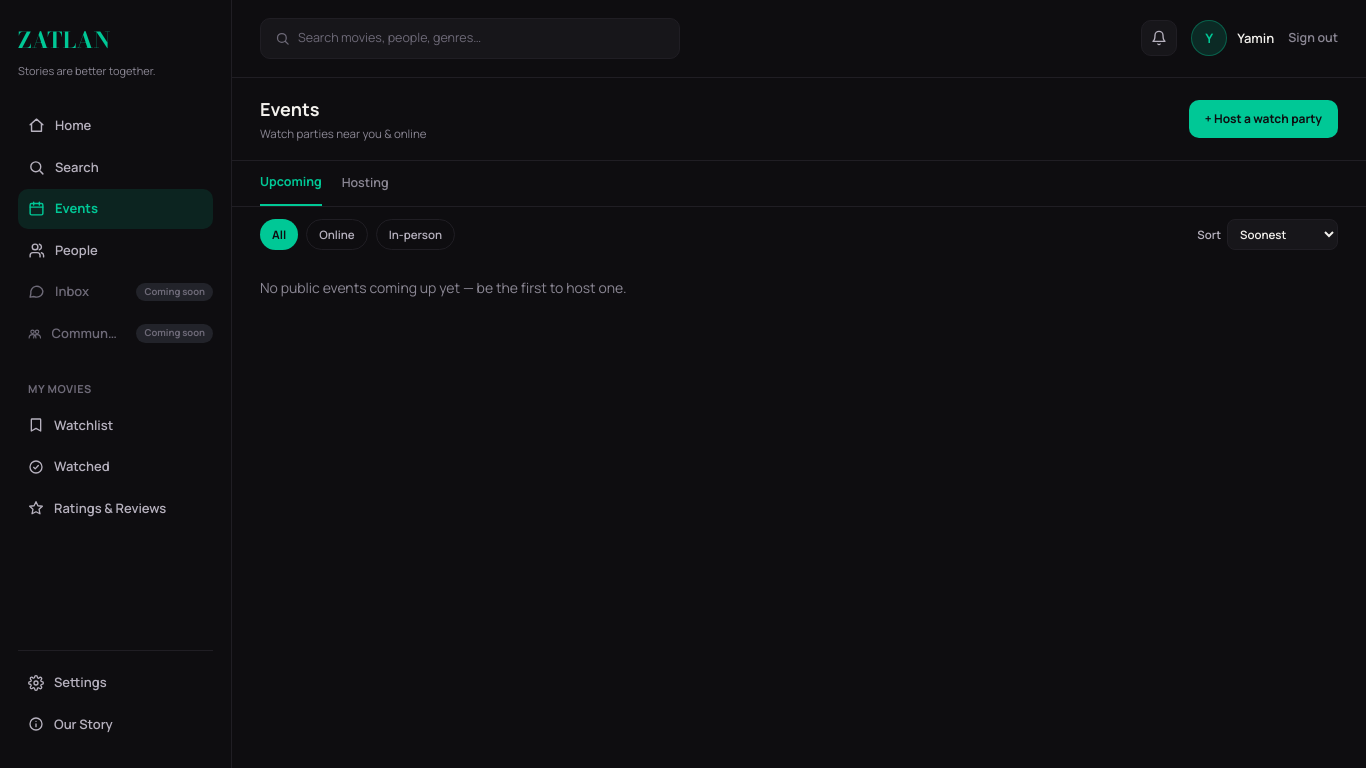
Test case: EventsPage › shows a "Host a watch party" CTA on the Hosting tab's empty state, opening the create-event modal — the old message had no way to act on it
The width and height of the screenshot is (1366, 768).
Click the button "Hosting" at [365, 189], box [342, 173, 389, 206]
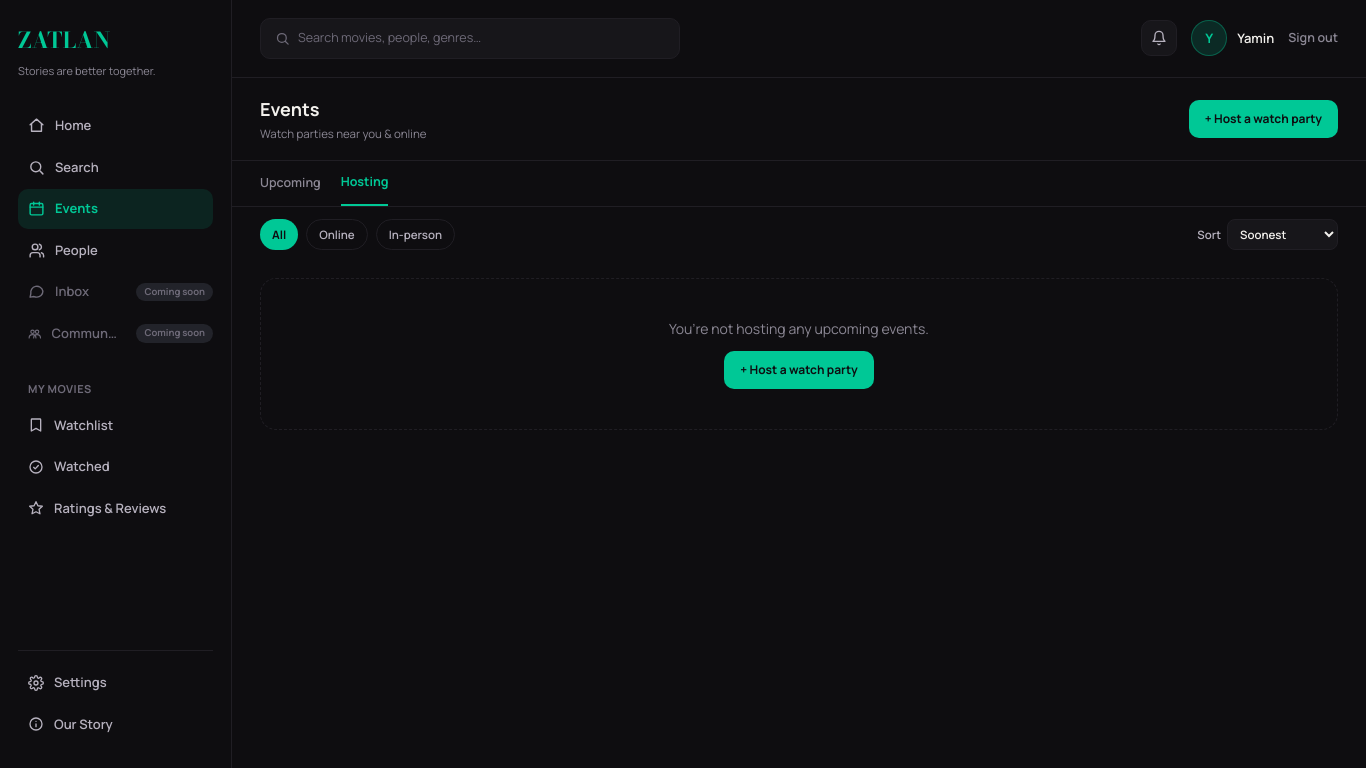
Now the text "You’re not hosting any upcoming events." is shown, box [669, 319, 929, 339]
Now the number of buttons "+ Host a watch party" is 2
Click the button "+ Host a watch party" below "You’re not hosting any upcoming events." at [799, 370], box [724, 351, 874, 389]
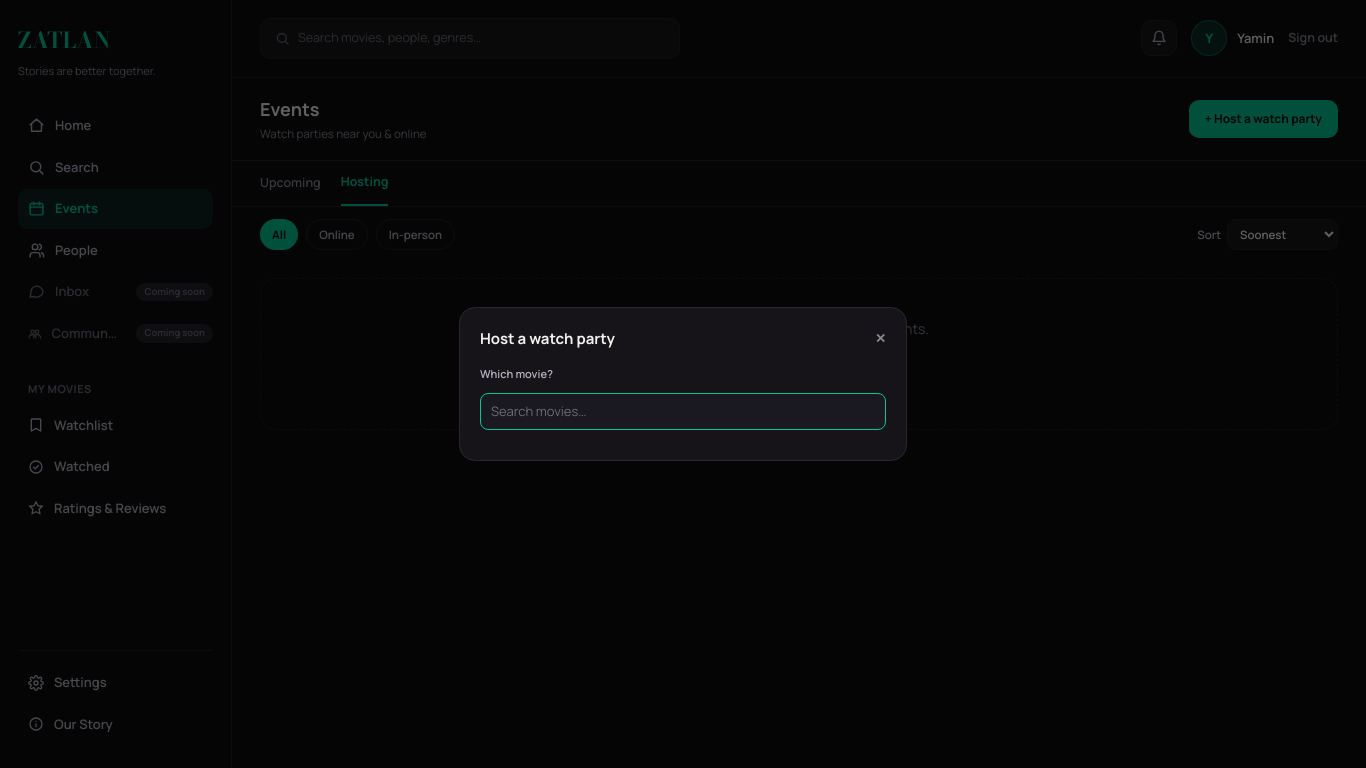
Now the dialog "Host a watch party ✕ Which movie?" is shown, box [459, 307, 907, 461]
